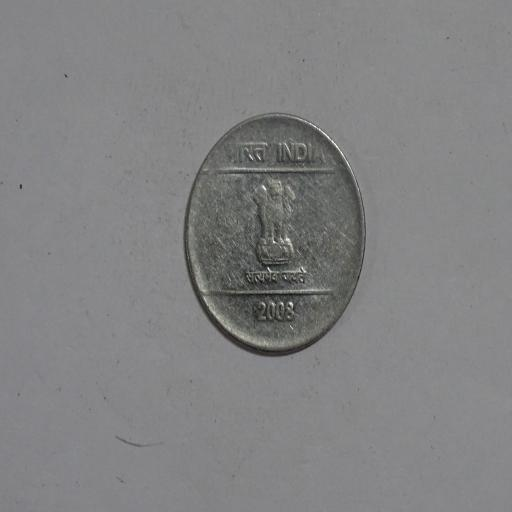rupee2: (183, 114, 366, 352)
